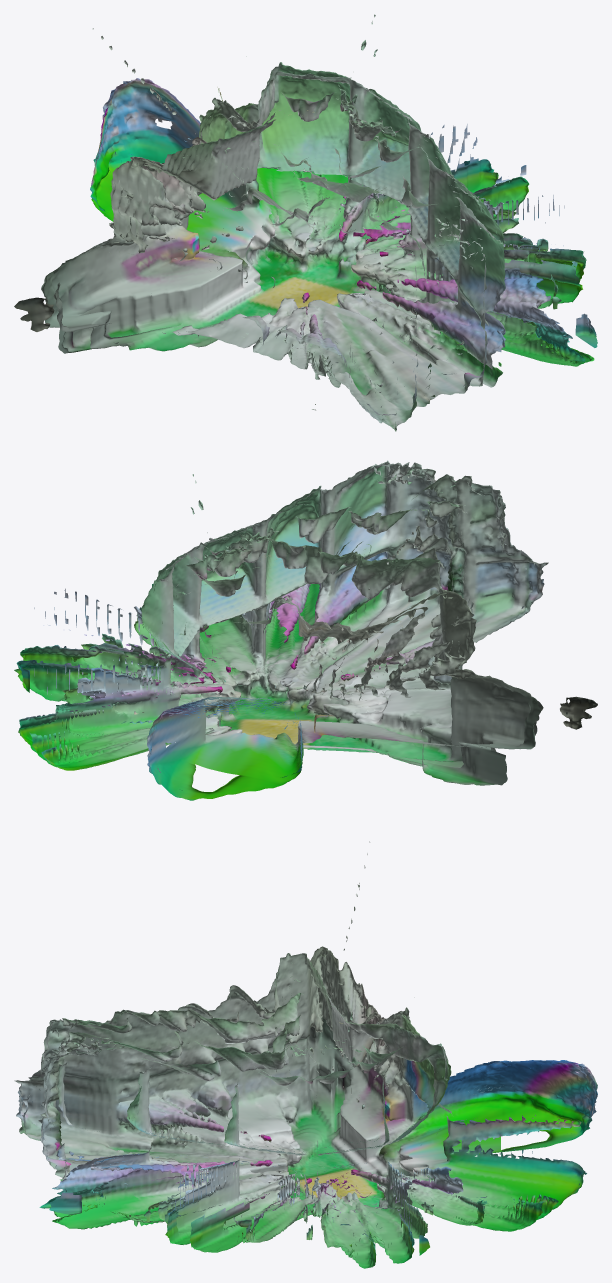
The model's file is frutiger-rainbow-cafe-1-1-API_collider.glb.
3 renders of one model, top to bottom at view 1: azimuth 30°, elevation 25°; view 2: azimuth 150°, elevation 25°; view 3: azimuth 270°, elevation 25°, orthographic. The views are drawn at different scales.
Visible parts, largest first — view 1: world; view 2: world; view 3: world.
Boxes of the visible parts, bbox=[...] form: world: bbox=[14, 14, 597, 431]; world: bbox=[14, 460, 597, 800]; world: bbox=[14, 841, 597, 1268].
Bounding box in the file's own units: 21.06 × 12.73 × 21.63.
